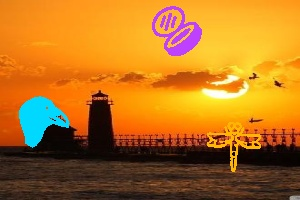化妆盒: (152, 6, 203, 56)
帽子: (17, 96, 70, 148)
蜻蜓: (207, 123, 261, 172)
